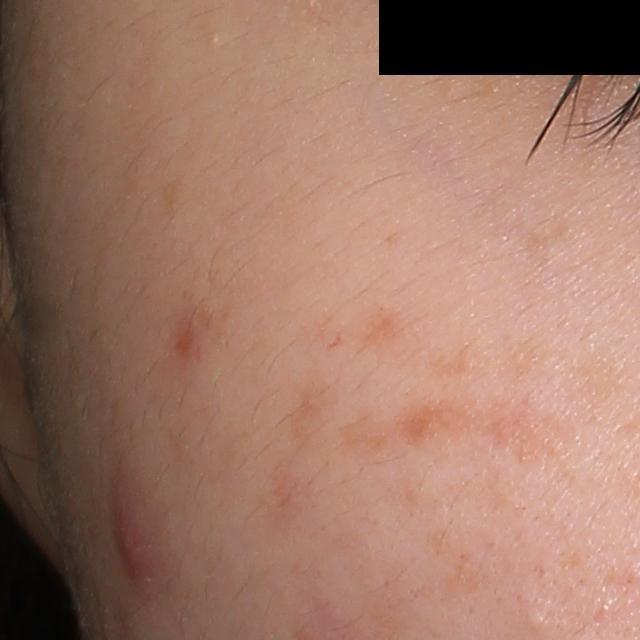comedo: (524, 607, 552, 636)
melasma: (482, 390, 589, 477), (394, 392, 482, 449), (285, 379, 342, 453), (348, 304, 408, 357), (428, 336, 482, 381), (520, 213, 576, 253)
papule: (116, 490, 157, 588)
